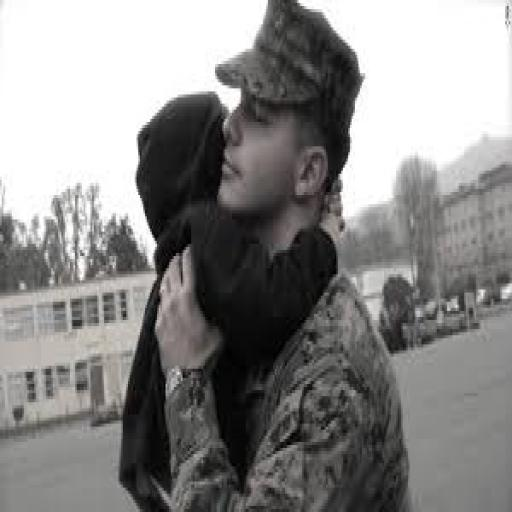hugging: (118, 3, 413, 509)
